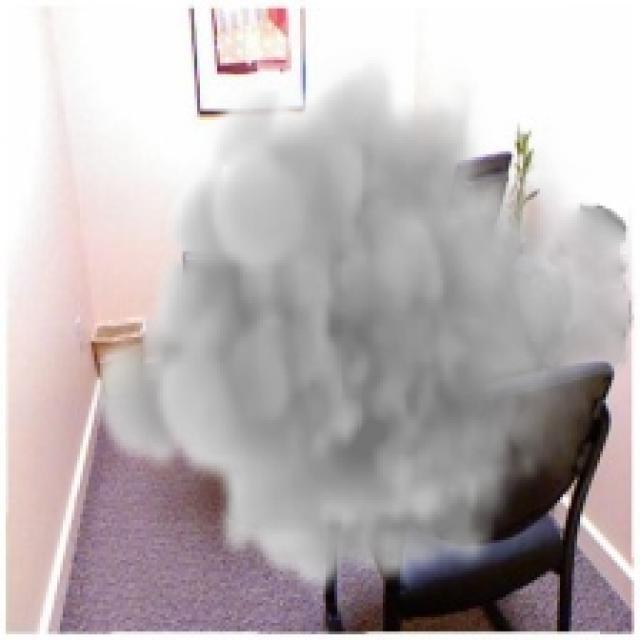Smoke: (85, 48, 638, 594)
